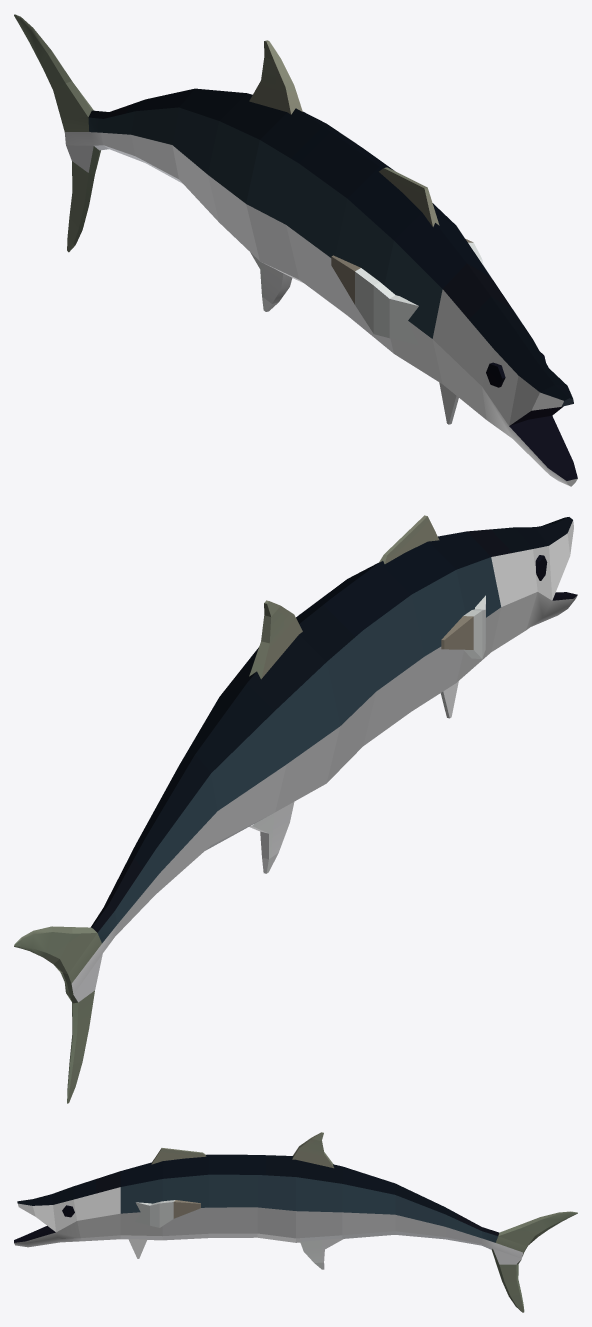
Rendered from e_Lkl7E-Tc8.glb.
The picture shows the model from 3 angles, top to bottom: view 1: azimuth 30°, elevation 25°; view 2: azimuth 150°, elevation 25°; view 3: azimuth 270°, elevation 25°; orthographic projection. The views are drawn at different scales.
Visible parts, largest first — view 1: Geo_Kingfish; view 2: Geo_Kingfish; view 3: Geo_Kingfish.
Boxes of the visible parts, x1,y1,x2,y2 form: Geo_Kingfish: (14, 14, 577, 486); Geo_Kingfish: (14, 515, 577, 1103); Geo_Kingfish: (14, 1132, 577, 1312).
Size of the model in its own units: 0.3484 by 1 by 2.84.
Materials: 1 (1 with a texture image).
